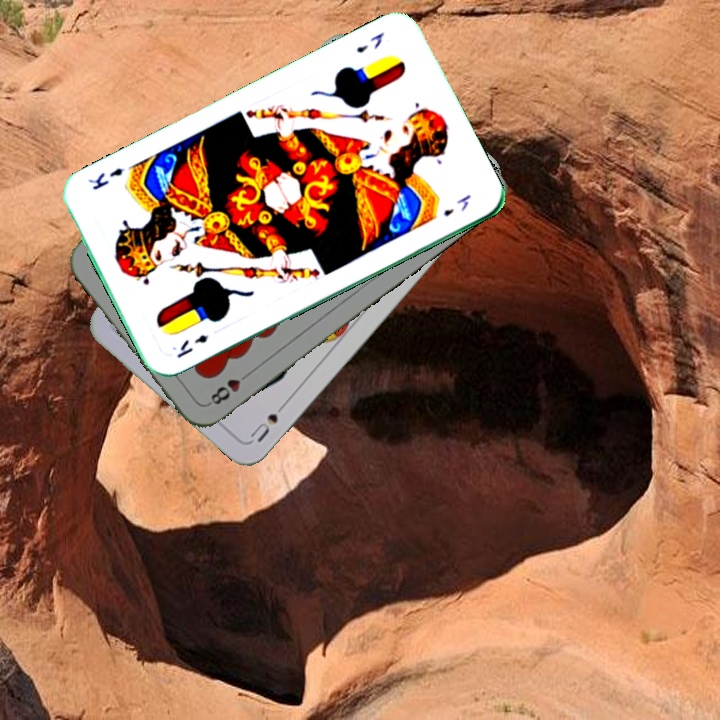EK: (172, 330, 211, 361), (352, 28, 387, 56)
H8: (204, 367, 254, 408)
SU: (246, 395, 292, 445)
